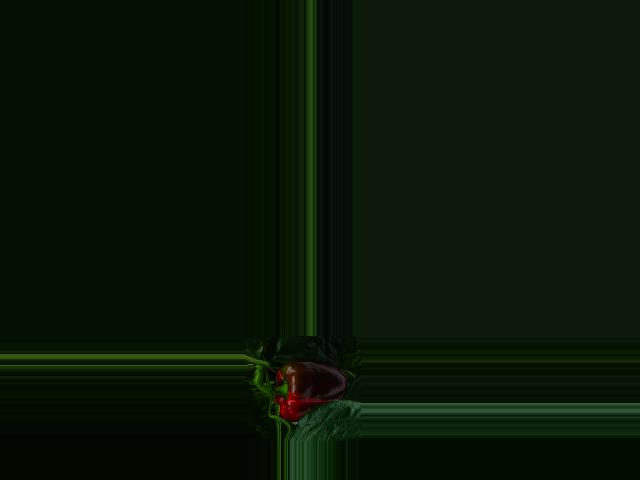bell_pepper: (265, 351, 352, 424)
